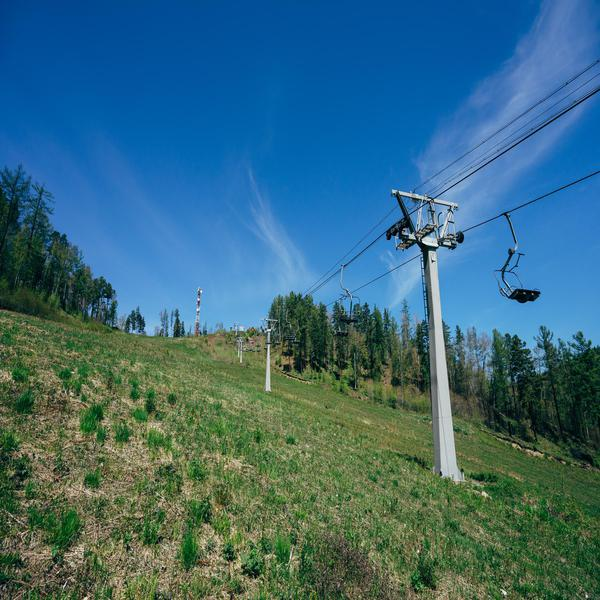utility_pole: (376, 180, 471, 286)
